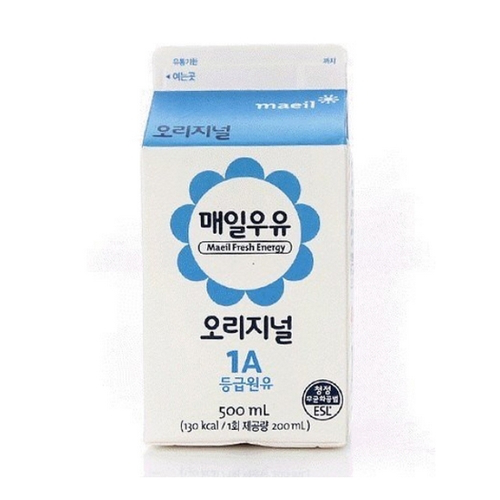milk: (140, 46, 350, 448)
